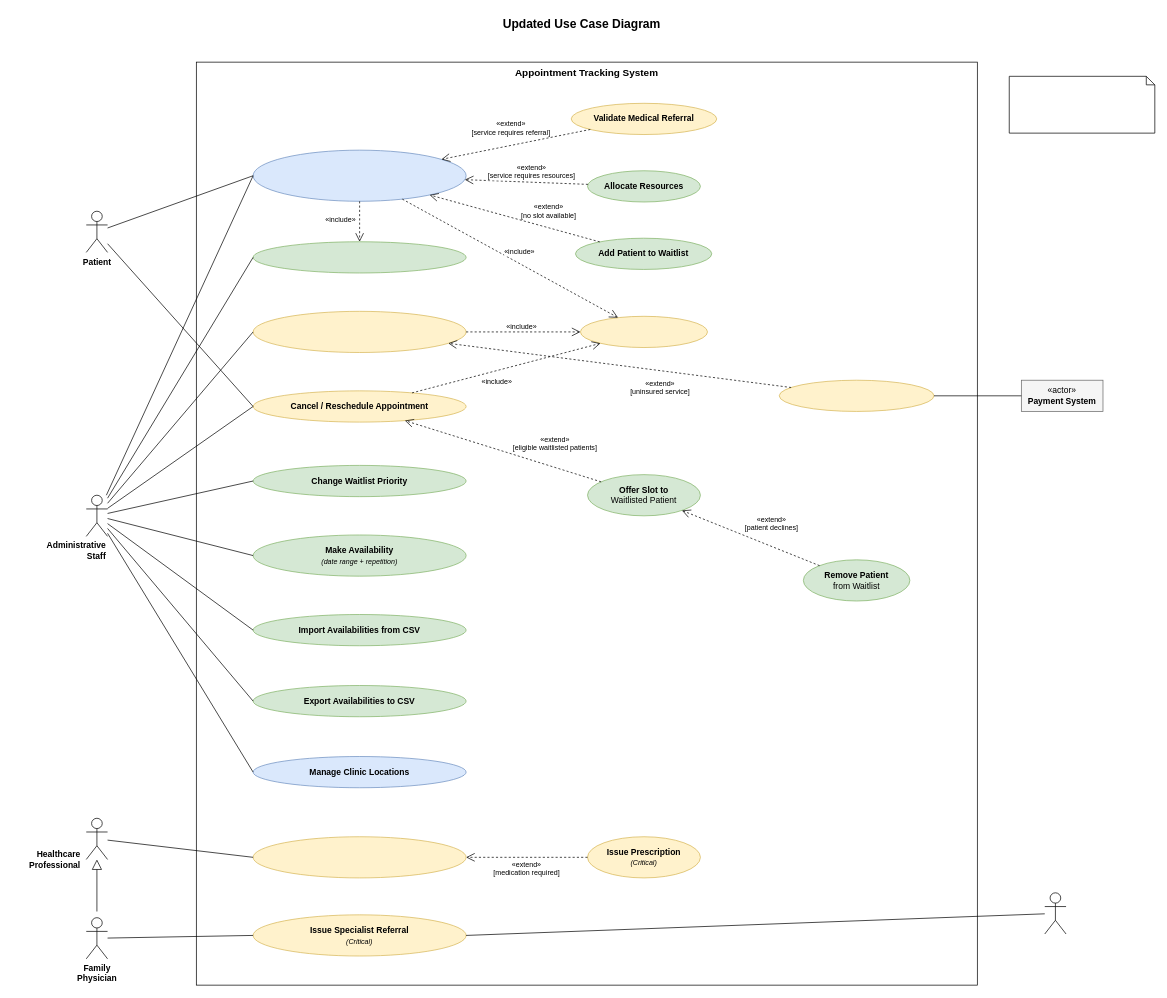
Image size: 1167x998. Some labels were removed from this diagram. The centre of each missing label's shape, as x and y in pixels:
"Book Appointment (walk-in or phone) (Critical)" goes at (359,175).
"Conduct Consultation & Record Notes (Critical)" goes at (359,857).
"External Physician" goes at (1055,913).
"Legend Yellow: unchanged Blue: changed scope/name Green: new in Iteration 2" goes at (1082,104).
"Process Payment & Invoicing" goes at (856,395).
"Register Patient Arrival (Critical)" goes at (359,332).
"Search Availability" goes at (359,257).
"Search Patient Record" goes at (644,332).
